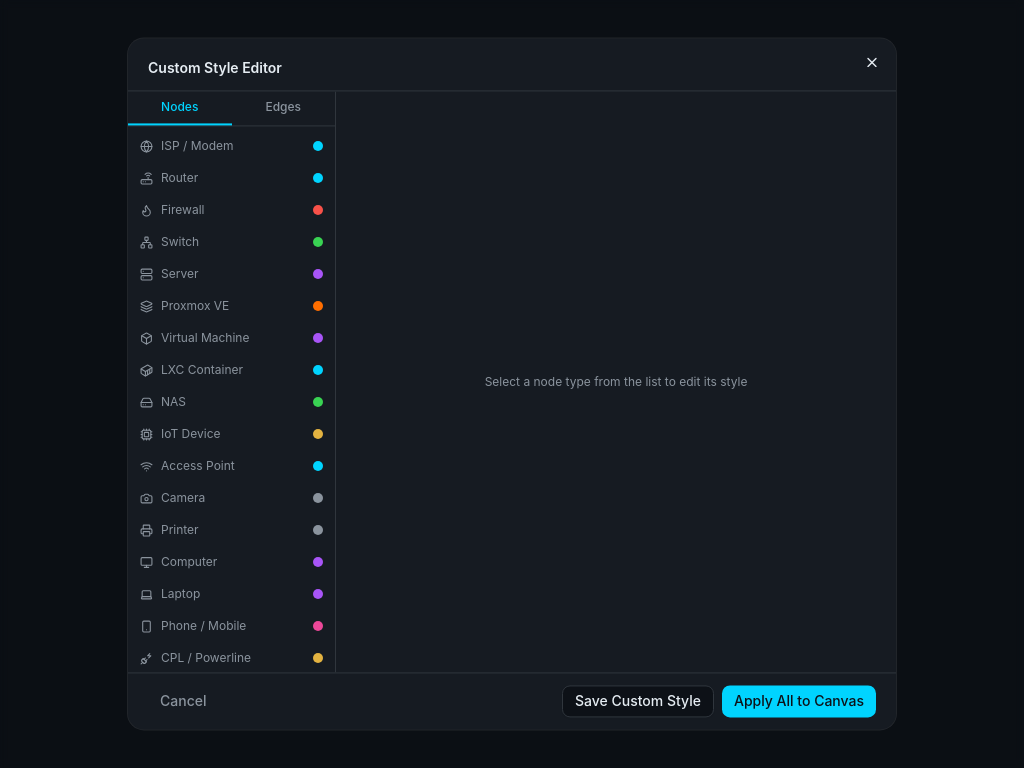
Test: CustomStyleModal › selecting a node type opens the node editor
This screenshot has width=1024, height=768.
Click the button "Router" at (232, 178), box [128,162,335,194]
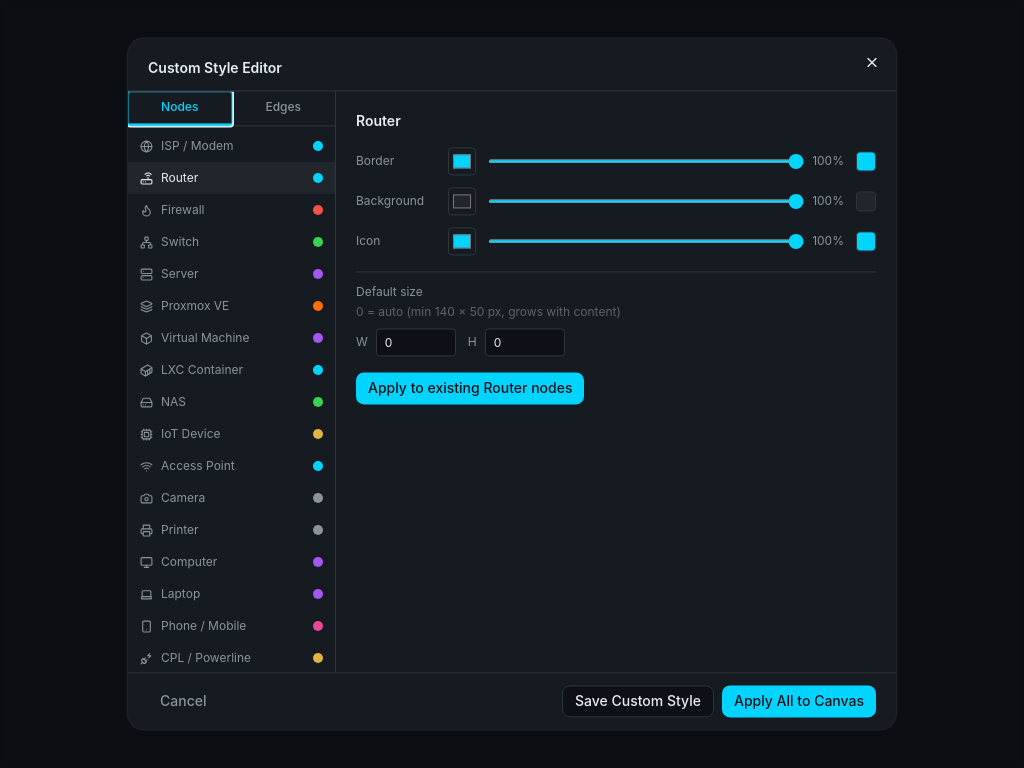
Expected: the button "Apply to existing Router nodes" is shown, [356,372,584,404]
Expected: the text "Default size" is shown, [356,284,423,299]
